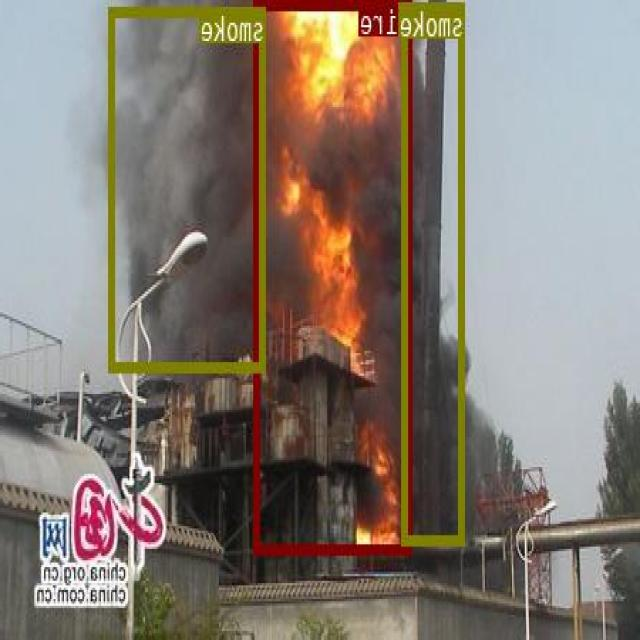fire: (254, 0, 414, 551)
smoke: (111, 5, 266, 370), (403, 1, 466, 543)
